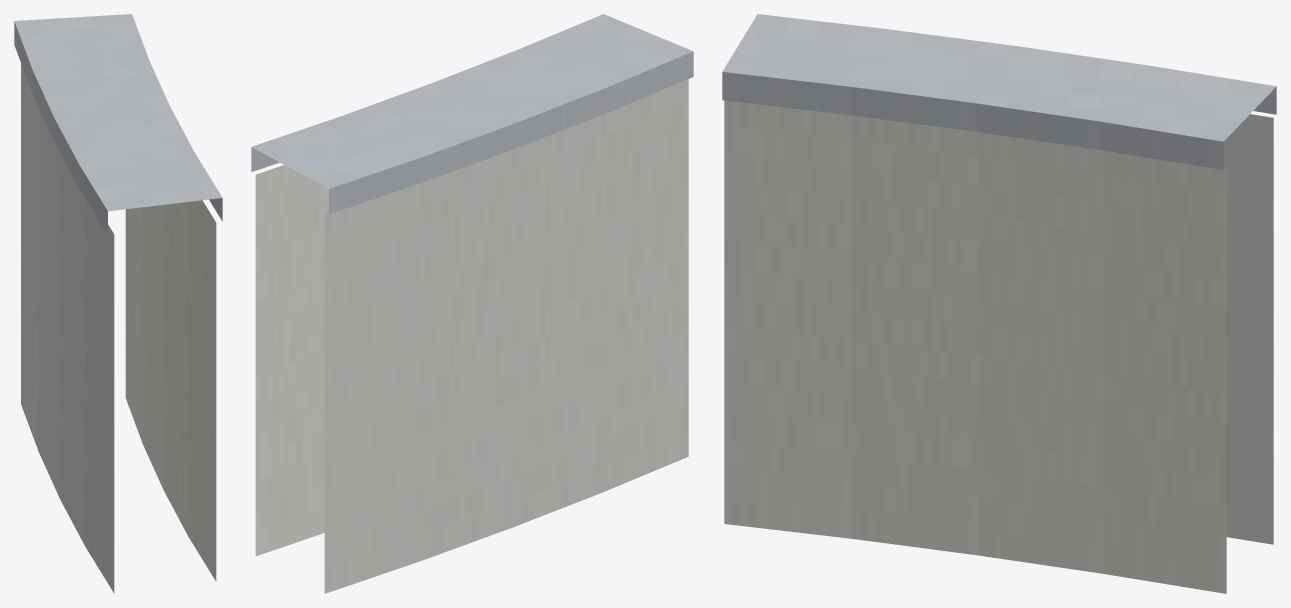
File: curve_board_02.obj
3 renders of one model, left to right at view 1: azimuth 30°, elevation 25°; view 2: azimuth 150°, elevation 25°; view 3: azimuth 270°, elevation 25°, orthographic. The views are drawn at different scales.
Visible parts, largest first — view 1: curve_board_02; view 2: curve_board_02; view 3: curve_board_02.
Part boxes in pixels (x1,y1,x2,y2): curve_board_02: (14,14,222,593); curve_board_02: (251,14,693,593); curve_board_02: (722,14,1276,593).
Bounding box in the file's own units: 0.6015 × 1 × 1.1.
